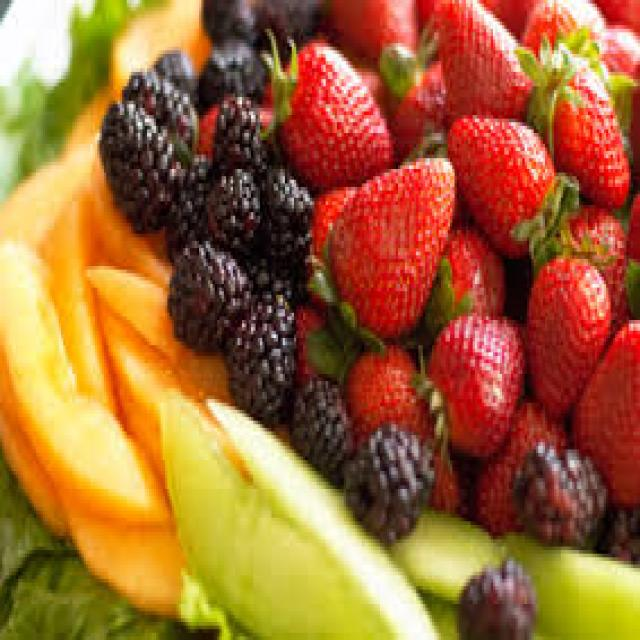organic waste: (0, 130, 233, 618), (154, 392, 391, 636), (204, 392, 436, 636), (0, 234, 170, 525), (308, 151, 452, 370), (0, 0, 160, 165), (262, 32, 393, 187), (84, 259, 228, 399), (36, 194, 122, 428), (513, 32, 629, 205), (344, 338, 457, 511), (61, 496, 215, 618), (0, 550, 206, 637), (97, 298, 192, 486), (490, 525, 638, 636), (414, 306, 525, 453), (529, 241, 606, 421), (418, 0, 532, 119), (572, 313, 638, 507), (473, 392, 565, 525), (418, 216, 502, 352), (299, 241, 382, 377), (0, 374, 68, 539), (344, 421, 432, 543), (392, 503, 496, 604), (516, 439, 604, 550), (376, 14, 446, 151), (97, 101, 174, 223), (559, 190, 624, 330), (226, 284, 292, 417), (0, 449, 57, 597), (168, 248, 254, 345), (108, 0, 205, 86), (592, 18, 638, 180), (455, 554, 536, 636), (253, 158, 308, 273), (307, 176, 362, 291), (122, 68, 197, 151), (292, 374, 348, 482), (319, 0, 418, 61), (289, 270, 346, 366), (520, 0, 604, 61), (199, 83, 271, 151), (414, 0, 527, 43), (208, 162, 256, 252), (165, 151, 208, 245), (199, 40, 262, 104), (213, 93, 260, 169), (149, 47, 199, 108), (260, 0, 323, 47), (199, 0, 260, 47), (56, 86, 111, 137), (358, 58, 400, 119), (244, 255, 306, 295), (416, 582, 459, 636), (622, 180, 638, 320), (606, 500, 638, 564), (592, 0, 638, 40)
